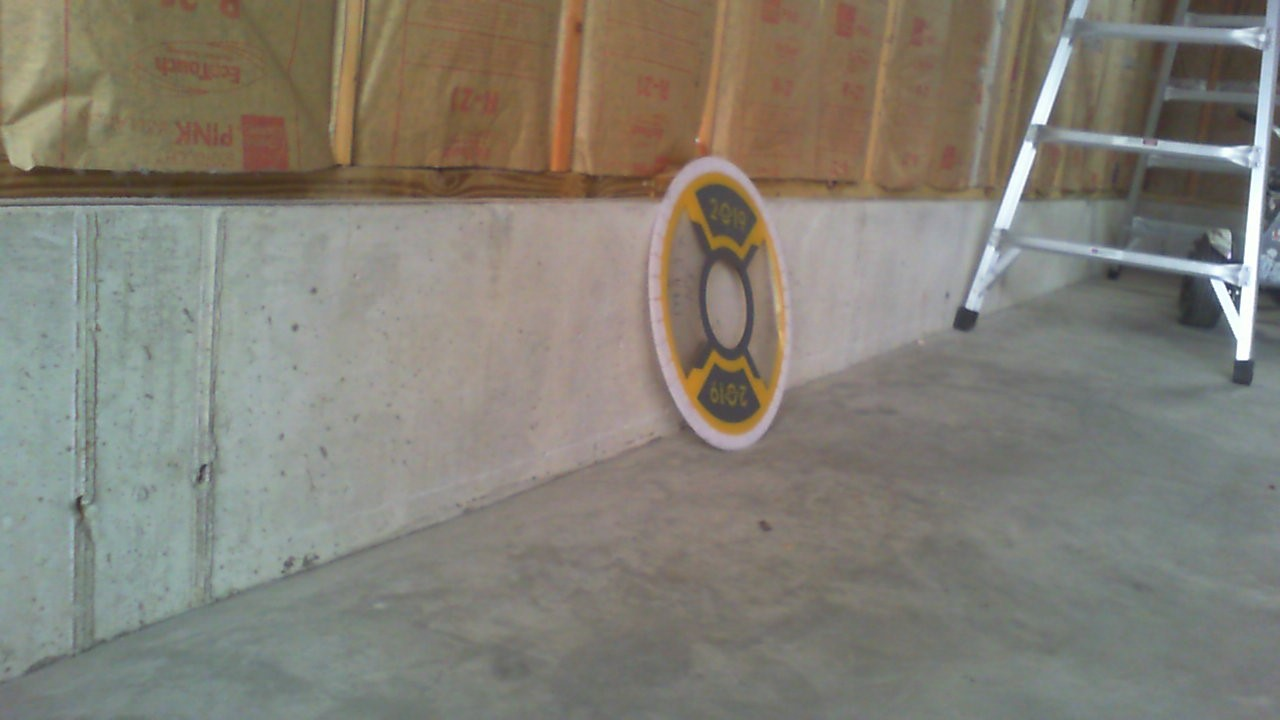Hatch: (645, 155, 794, 449)
